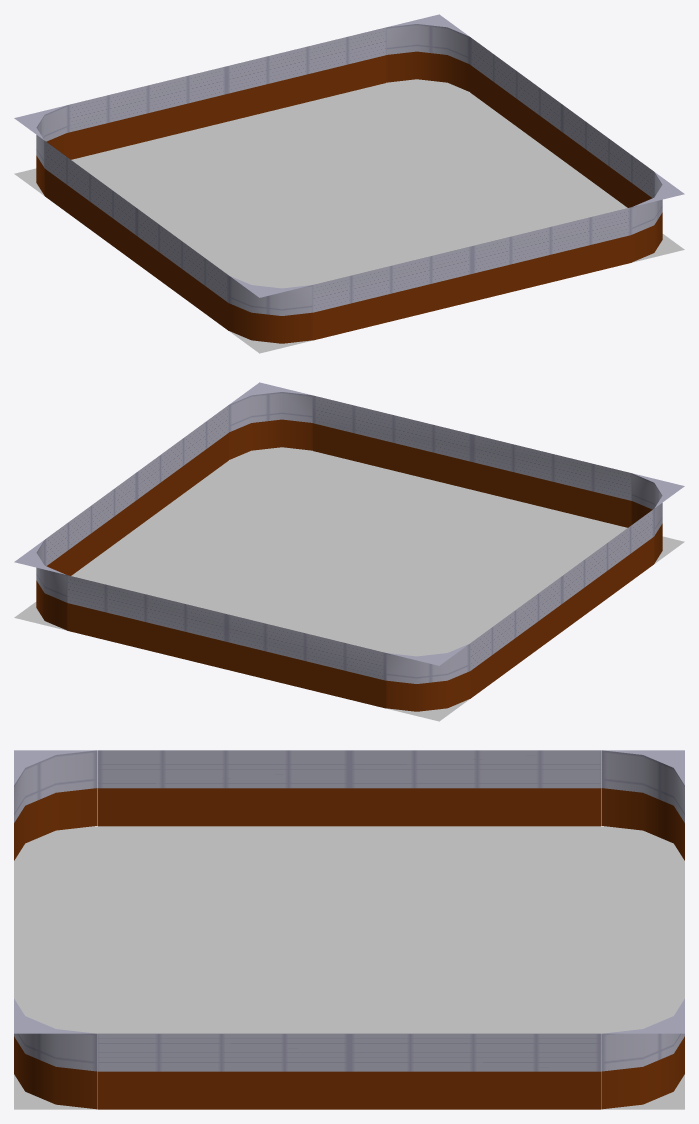
File: water_4a.dae
The picture shows the model from 3 angles, top to bottom: view 1: azimuth 30°, elevation 25°; view 2: azimuth 150°, elevation 25°; view 3: azimuth 270°, elevation 25°; orthographic projection. The views are drawn at different scales.
Visible parts, largest first — view 1: Regroup03, Regroup08, Regroup07, Regroup09; view 2: Regroup03, Regroup08, Regroup07, Regroup09; view 3: Regroup03, Regroup07, Regroup08, Regroup09.
Boxes of the visible parts, bbox=[...] form: Regroup03: bbox=[14, 79, 684, 353]; Regroup08: bbox=[36, 24, 662, 315]; Regroup07: bbox=[36, 51, 662, 343]; Regroup09: bbox=[14, 14, 684, 297]; Regroup03: bbox=[14, 447, 684, 721]; Regroup08: bbox=[36, 392, 662, 683]; Regroup07: bbox=[36, 419, 662, 711]; Regroup09: bbox=[14, 382, 684, 665]; Regroup03: bbox=[14, 826, 684, 1109]; Regroup07: bbox=[14, 788, 684, 1109]; Regroup08: bbox=[14, 750, 684, 1071]; Regroup09: bbox=[14, 750, 684, 1033].
Size of the model in its own units: 16 by 2 by 16.
